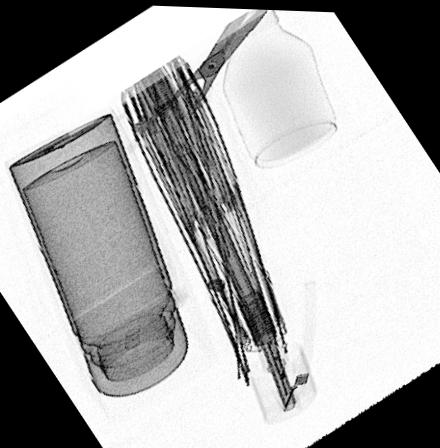Scissors: (89, 7, 268, 179)
